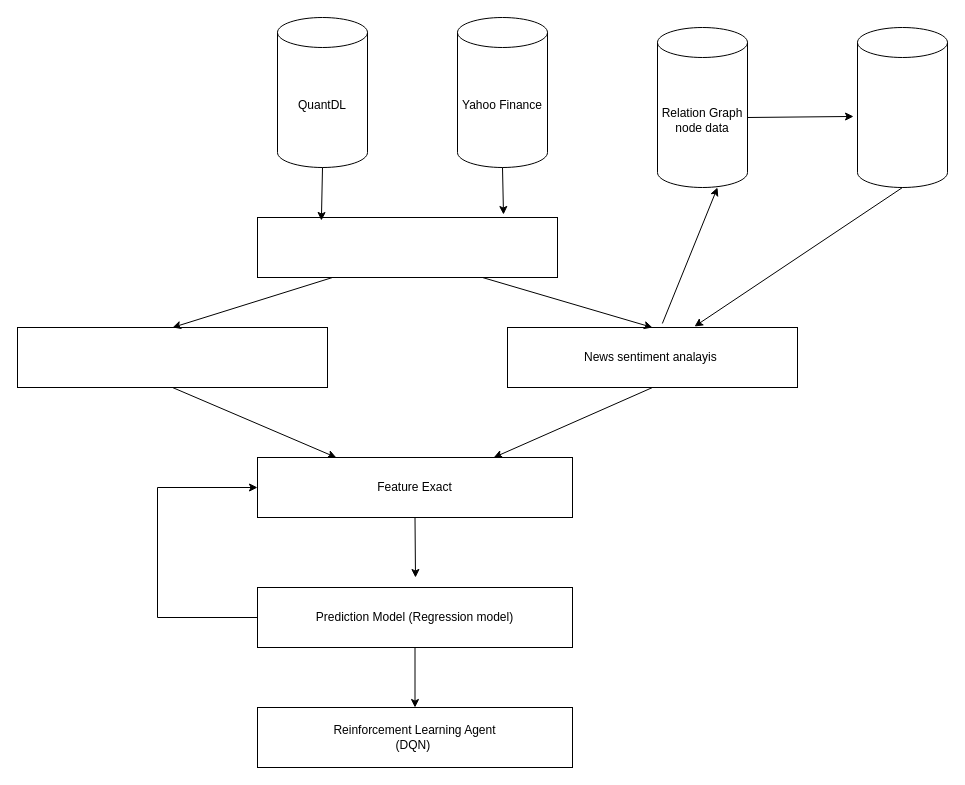
Some shapes in this 965 by 785 pixel diagram are drawn without their labels. The shapes that lost their labels are listed below. From the top down, each one's centre as x and y in pixels, then its label:
At (902,107): "News fetching".
At (407,247): "Ticker history collection".
At (172,357): "Technical Indicator".
